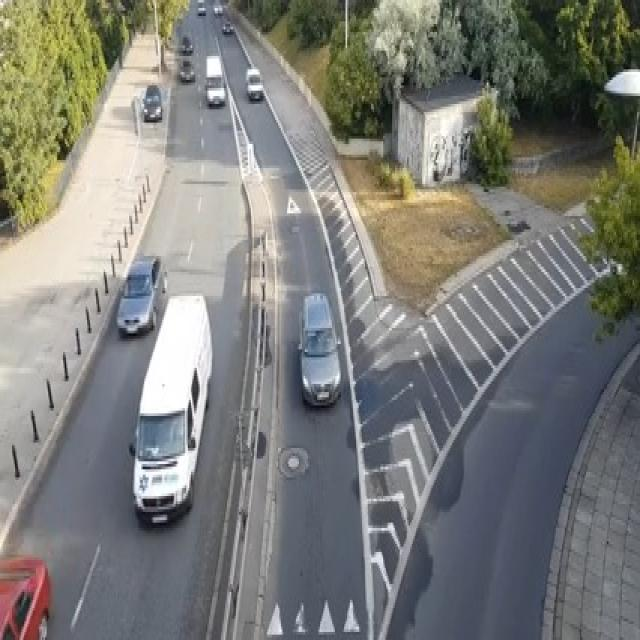bus: (130, 291, 213, 525)
car: (297, 291, 341, 405), (0, 552, 50, 637), (116, 253, 166, 336), (141, 83, 162, 120), (204, 75, 226, 106), (245, 66, 263, 98), (286, 195, 300, 232), (179, 58, 195, 82), (180, 35, 192, 53), (221, 18, 233, 34), (211, 0, 222, 13), (197, 0, 206, 13)
